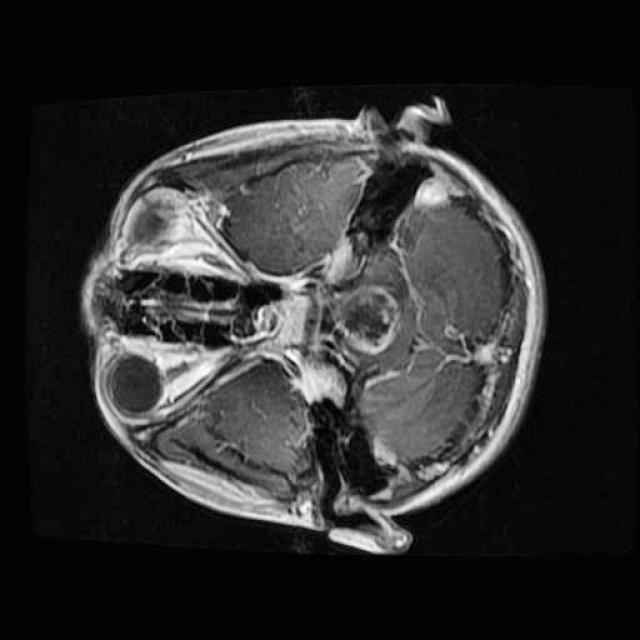Non-Tumor: (330, 275, 405, 364)
